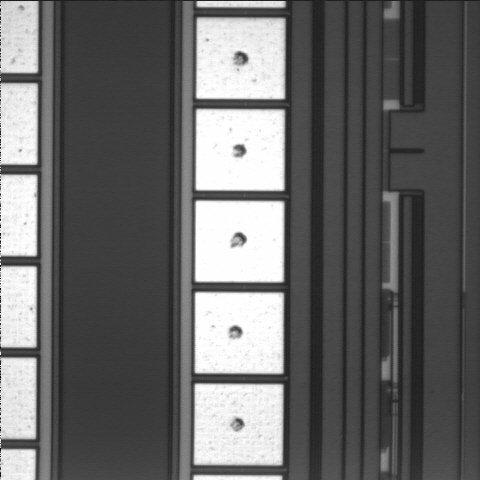pad: (196, 109, 285, 191), (195, 292, 284, 374), (196, 18, 285, 99), (195, 201, 284, 282), (194, 384, 283, 465)
